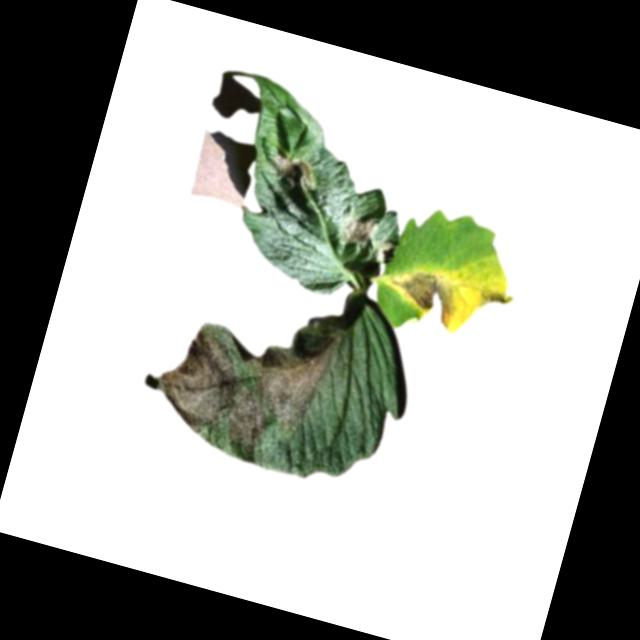Late_blight: (123, 268, 346, 471), (379, 264, 460, 331), (263, 151, 321, 193), (336, 209, 379, 249), (482, 289, 510, 309)
